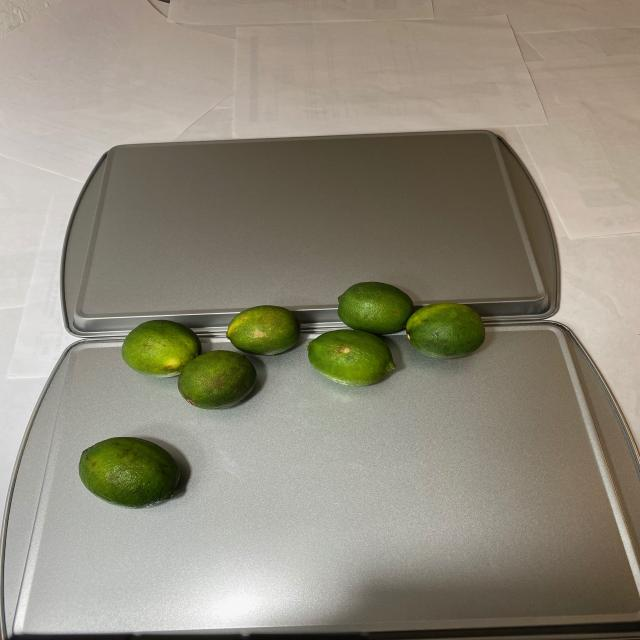lemon: (116, 281, 488, 409), (76, 433, 185, 509)
